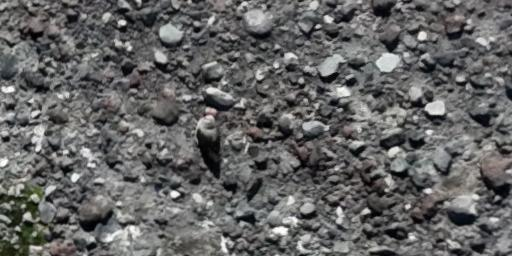skua: (188, 109, 232, 181)
